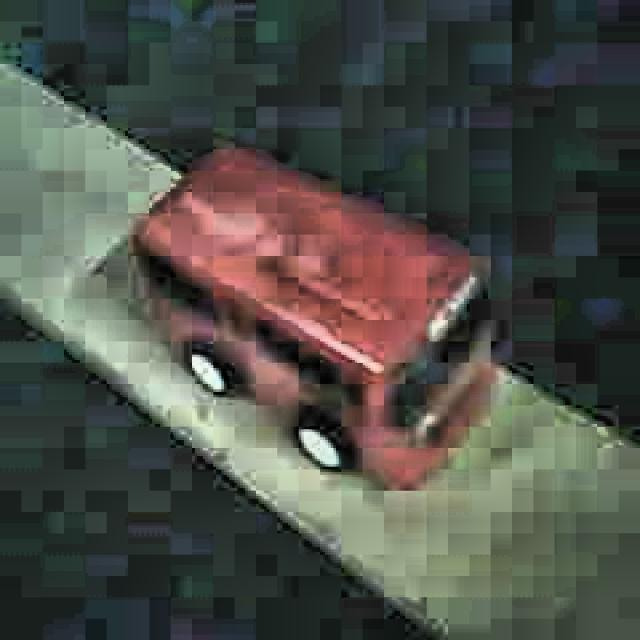bus: (130, 144, 496, 494)
